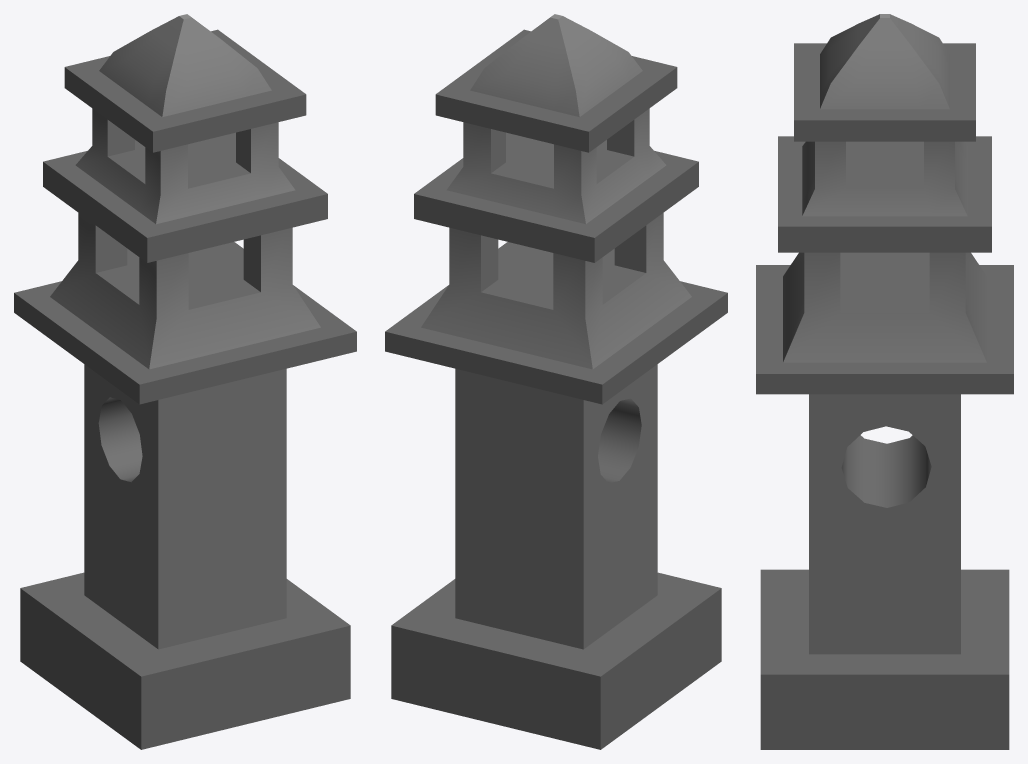
File: lantern8.fbx
3 views of the same model, side by side, from view 1: azimuth 30°, elevation 25°; view 2: azimuth 150°, elevation 25°; view 3: azimuth 270°, elevation 25° (orthographic). The views are drawn at different scales.
Visible parts, largest first — view 1: lantern8; view 2: lantern8; view 3: lantern8.
Boxes of the visible parts, left/top/right/bottom form: lantern8: left=14, top=14, right=356, bottom=749; lantern8: left=385, top=14, right=727, bottom=749; lantern8: left=756, top=14, right=1013, bottom=749.
Size of the model in its own units: 120 by 349 by 120.
